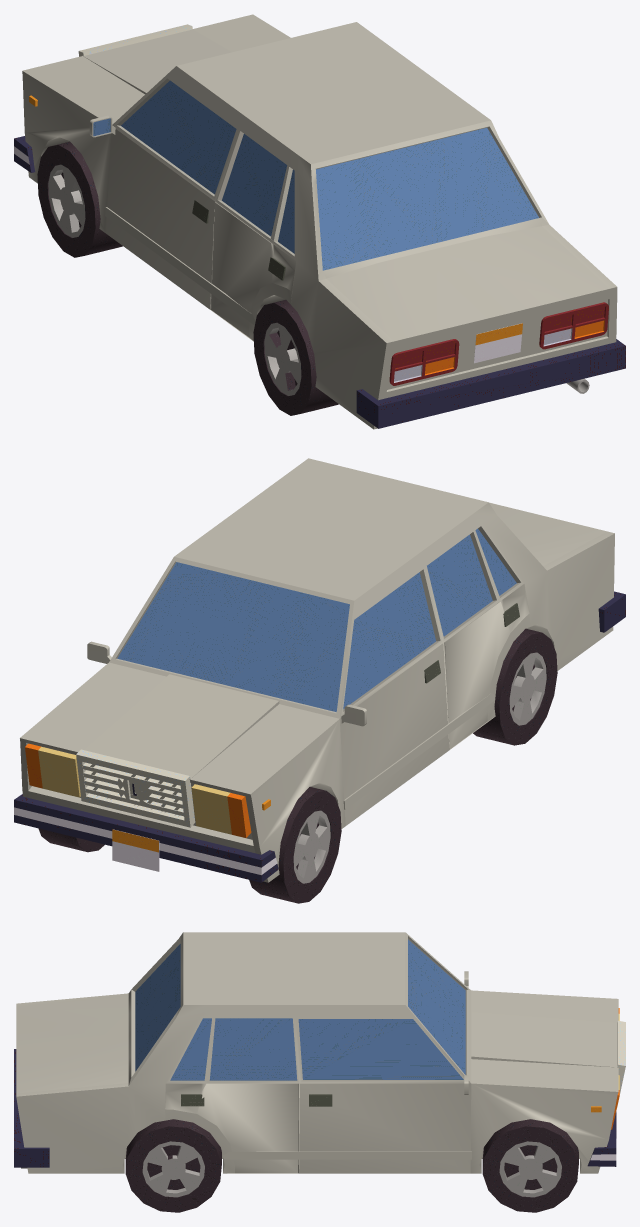
File: lada-car.glb
The picture shows the model from 3 angles, top to bottom: view 1: azimuth 30°, elevation 25°; view 2: azimuth 150°, elevation 25°; view 3: azimuth 270°, elevation 25°; orthographic projection. The views are drawn at different scales.
Visible parts, largest first — view 1: body, wheel_RL, wheel_FL; view 2: body, wheel_FL, wheel_RL, wheel_FR; view 3: body, wheel_RR, wheel_FR.
Boxes of the visible parts, x1,y1,x2,y2 form: body: (14,14,625,429); wheel_RL: (253,300,338,415); wheel_FL: (37,141,122,257); body: (14,458,625,882); wheel_FL: (249,787,341,903); wheel_RL: (473,628,557,745); wheel_FR: (38,828,104,852); body: (14,932,625,1173); wheel_RR: (125,1119,221,1212); wheel_FR: (482,1119,578,1212).
Size of the model in its own units: 1.79 by 1.45 by 4.14.
Materials: 2 (1 with a texture image).
